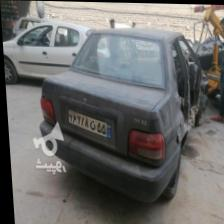plate: (66, 107, 111, 143)
